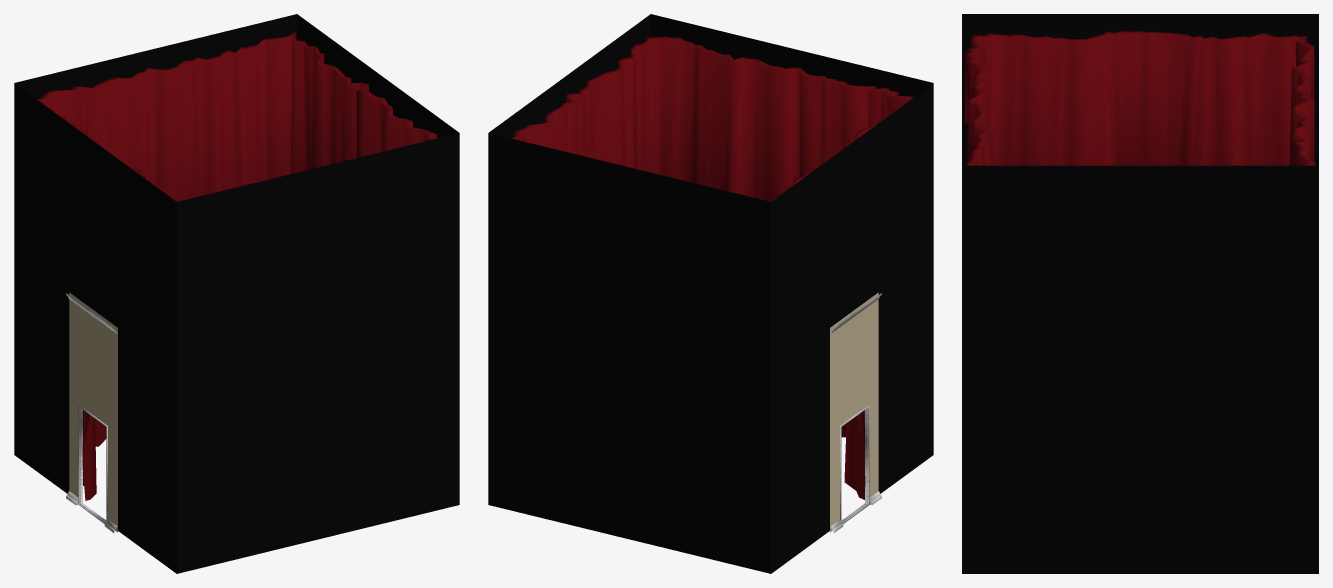
Rendered from RedRoomWall01.fbx.
The picture shows the model from 3 angles, left to right: view 1: azimuth 30°, elevation 25°; view 2: azimuth 150°, elevation 25°; view 3: azimuth 270°, elevation 25°; orthographic projection. The views are drawn at different scales.
Visible parts, largest first — view 1: Cube.011; view 2: Cube.011; view 3: Cube.011.
Part boxes in pixels (box(x1,y1,x2,y2)): Cube.011: box(14, 14, 459, 573); Cube.011: box(488, 14, 933, 573); Cube.011: box(962, 14, 1318, 573).
Bounding box in the file's own units: 206 × 254 × 201.
